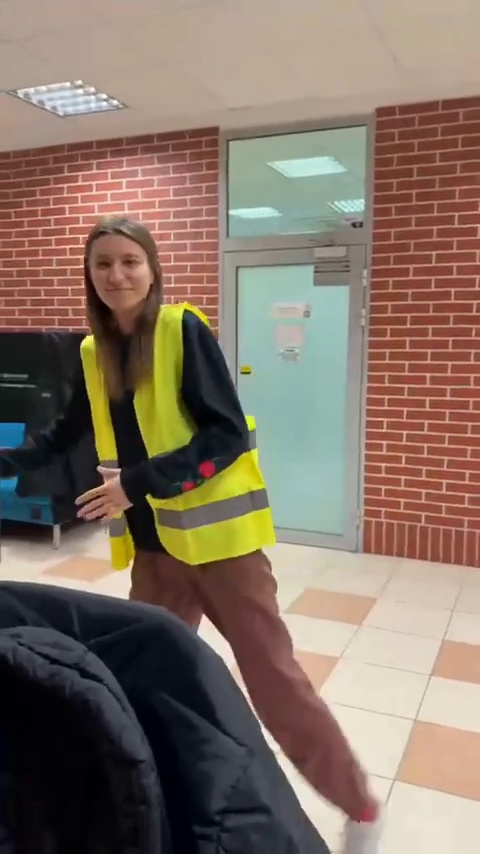vest: (68, 214, 362, 818)
